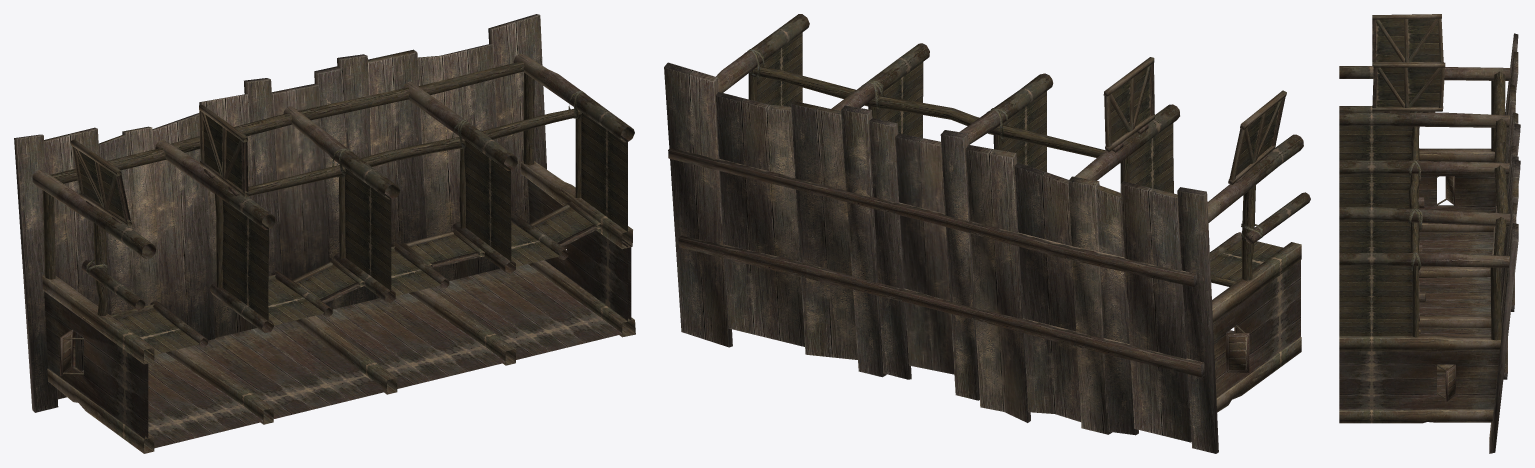
Rendered from bupeng002.FBX.
The picture shows the model from 3 angles, left to right: view 1: azimuth 30°, elevation 25°; view 2: azimuth 150°, elevation 25°; view 3: azimuth 270°, elevation 25°; orthographic projection. The views are drawn at different scales.
Visible parts, largest first — view 1: Mesh_0225; view 2: Mesh_0225; view 3: Mesh_0225.
Boxes of the visible parts, x1,y1,x2,y2 form: Mesh_0225: (14,14,635,453); Mesh_0225: (664,14,1310,453); Mesh_0225: (1339,14,1520,453).
Size of the model in its own units: 11.44 by 6.46 by 4.31.
Materials: 1 (1 with a texture image).
